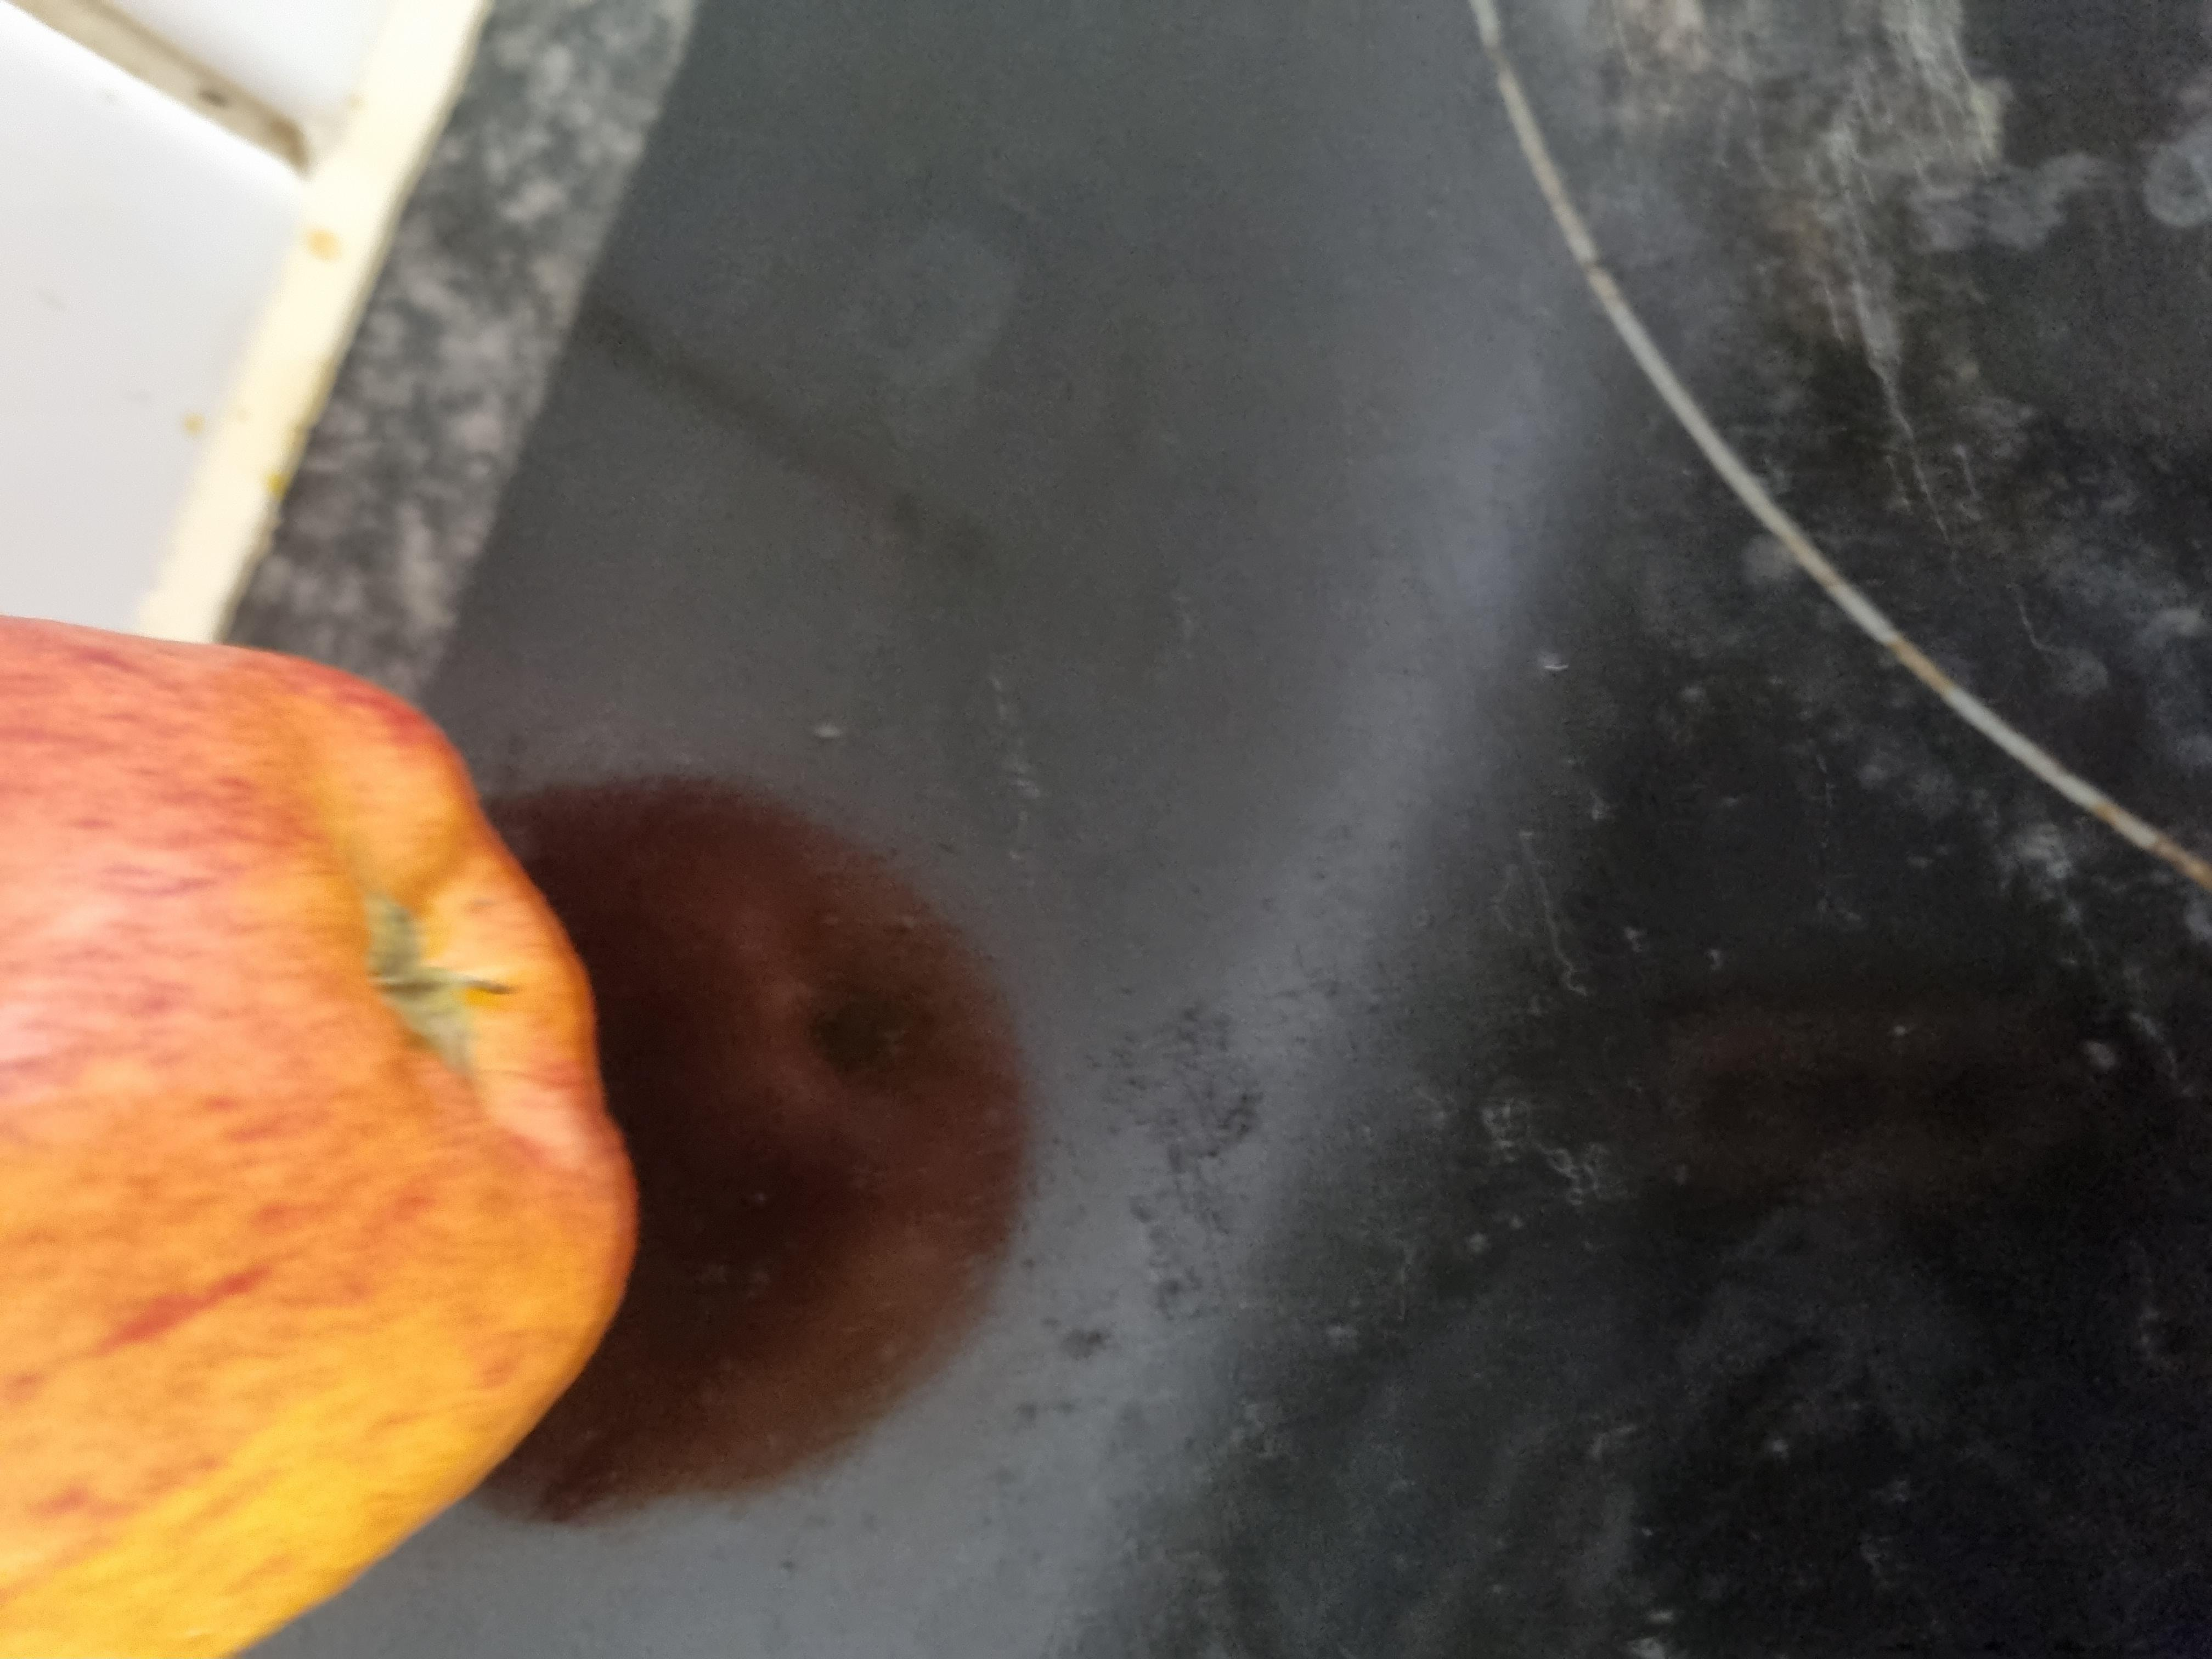Apple: (0, 0, 1428, 504)
